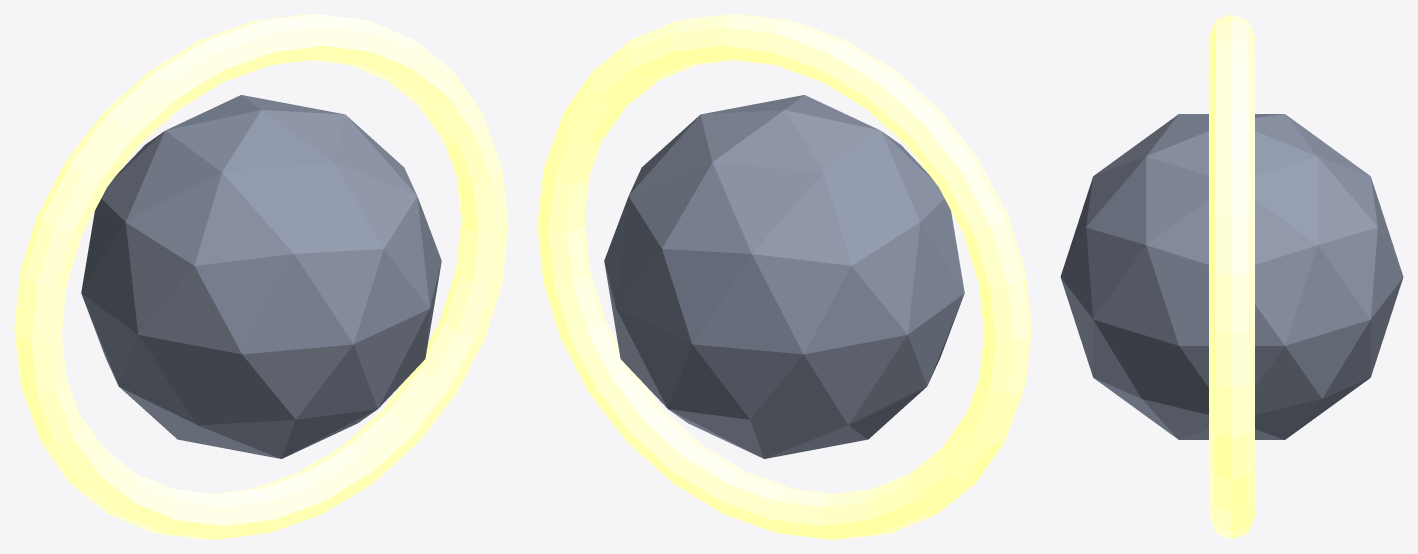
The model's file is mixer.glb.
3 views of the same model, side by side, from view 1: azimuth 30°, elevation 25°; view 2: azimuth 150°, elevation 25°; view 3: azimuth 270°, elevation 25° (orthographic). The views are drawn at different scales.
Visible parts, largest first — view 1: Mixer, MixerRing; view 2: Mixer, MixerRing; view 3: Mixer, MixerRing.
Part boxes in pixels (<box>): Mixer: <box>81,95,441,458</box>; MixerRing: <box>14,14,508,539</box>; Mixer: <box>604,95,964,458</box>; MixerRing: <box>537,14,1031,539</box>; Mixer: <box>1060,114,1403,439</box>; MixerRing: <box>1209,14,1254,539</box>.
Bounding box in the file's own units: 0.92 × 0.92 × 0.6.
